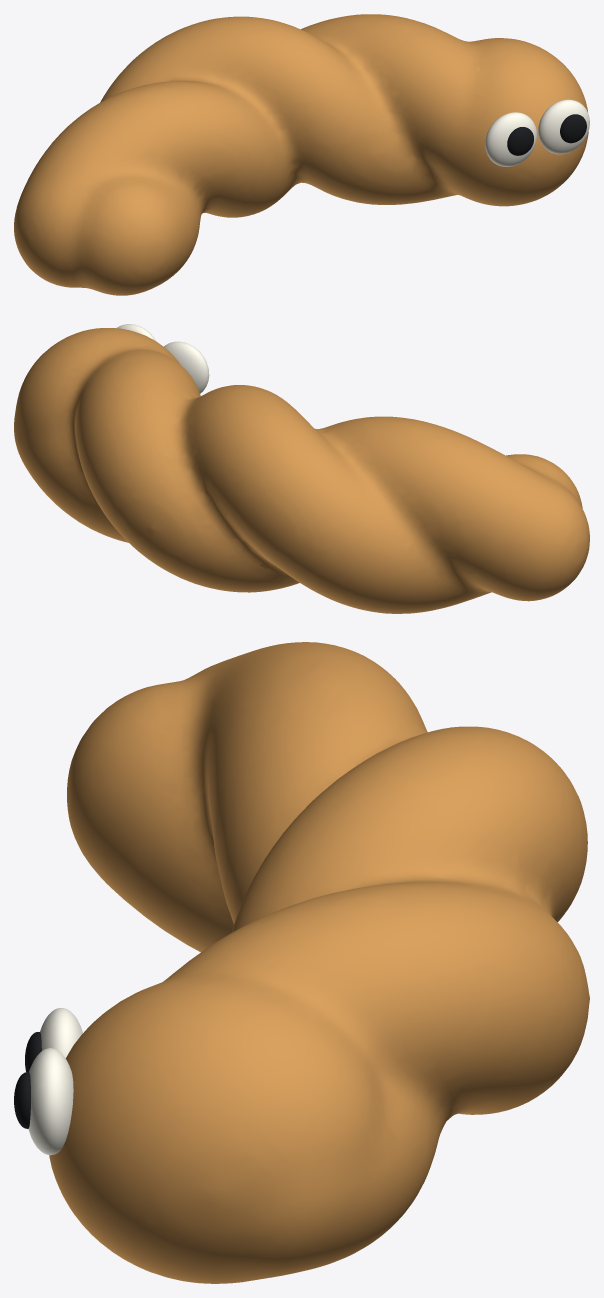
File: img-9972.glb
3 views of the same model, one above another, from view 1: azimuth 30°, elevation 25°; view 2: azimuth 150°, elevation 25°; view 3: azimuth 270°, elevation 25° (orthographic). The views are drawn at different scales.
Visible parts, largest first — view 1: IMG_9972__One continuous twisted pastry.005, IMG_9972__EyeWhite_0.013, IMG_9972__EyeWhite_1.013, IMG_9972__Pupil_1.013, IMG_9972__Pupil_0.013; view 2: IMG_9972__One continuous twisted pastry.005, IMG_9972__EyeWhite_0.013; view 3: IMG_9972__One continuous twisted pastry.005, IMG_9972__EyeWhite_1.013, IMG_9972__EyeWhite_0.013.
Boxes of the visible parts, left/top/right/bottom form: IMG_9972__One continuous twisted pastry.005: left=14, top=14, right=588, bottom=295; IMG_9972__EyeWhite_0.013: left=485, top=112, right=536, bottom=166; IMG_9972__EyeWhite_1.013: left=538, top=99, right=589, bottom=154; IMG_9972__Pupil_1.013: left=560, top=114, right=586, bottom=143; IMG_9972__Pupil_0.013: left=507, top=127, right=533, bottom=155; IMG_9972__One continuous twisted pastry.005: left=14, top=328, right=589, bottom=613; IMG_9972__EyeWhite_0.013: left=164, top=341, right=209, bottom=393; IMG_9972__One continuous twisted pastry.005: left=49, top=642, right=589, bottom=1283; IMG_9972__EyeWhite_1.013: left=28, top=1048, right=73, bottom=1155; IMG_9972__EyeWhite_0.013: left=40, top=1008, right=82, bottom=1058.
Size of the model in its own units: 3.03 by 1 by 1.5.
